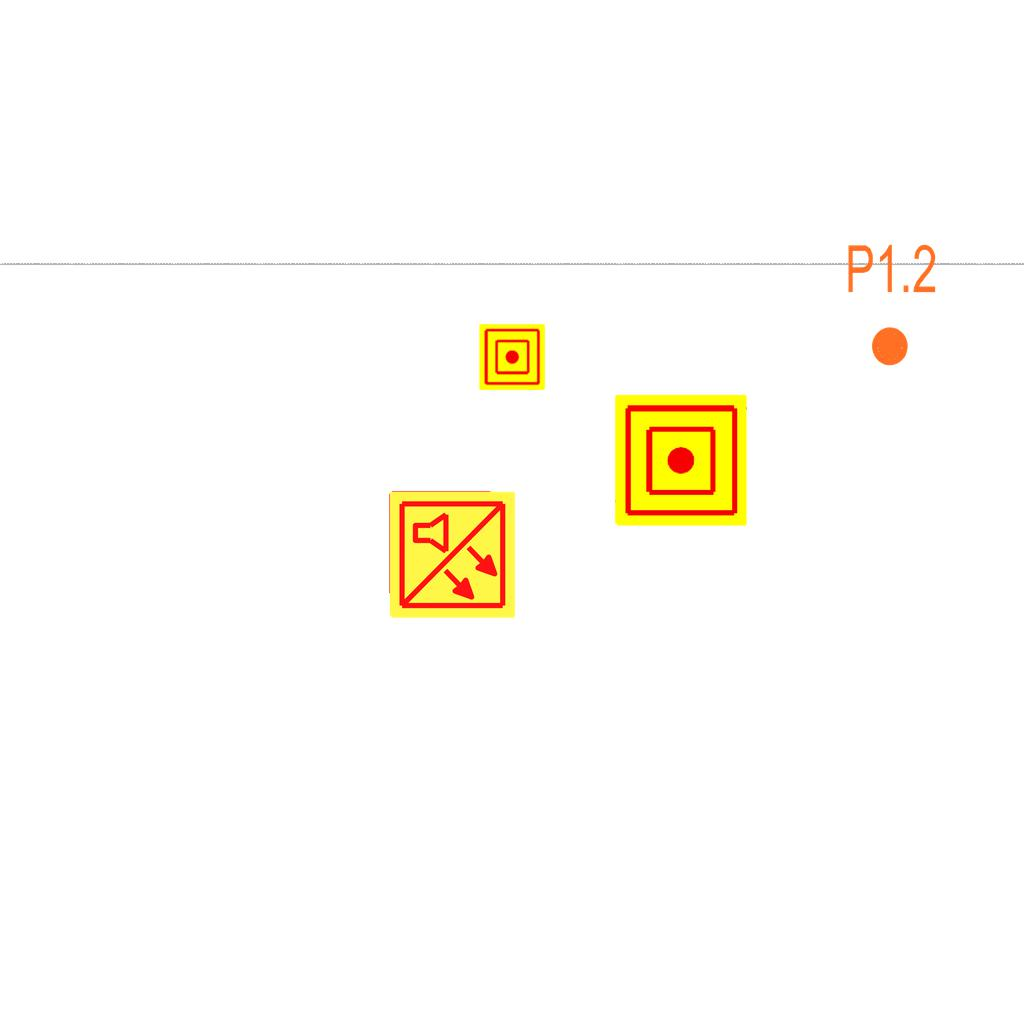Downlight_LED_Einbauleuchten_Flur: (845, 241, 938, 369)
NAM-Nichtautomatischer_Melder: (615, 394, 747, 526), (479, 324, 545, 390)
OKW_Multisensormelder_(Kombination_optischer_Rauch-Kahlenmonoxid_Waerme-Melder): (386, 489, 518, 621)
